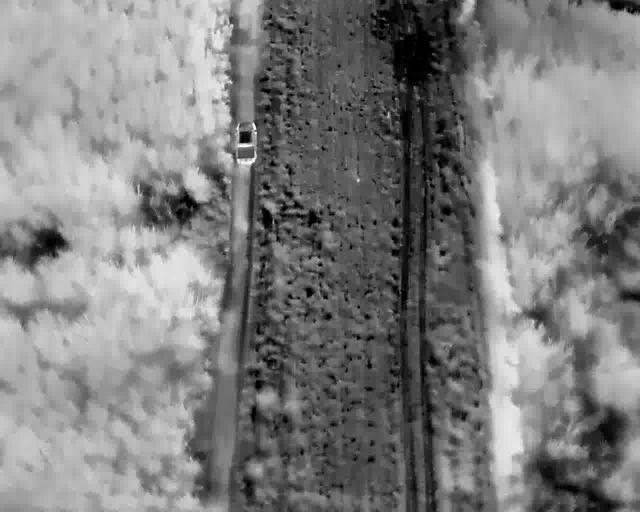car: (235, 121, 257, 164)
